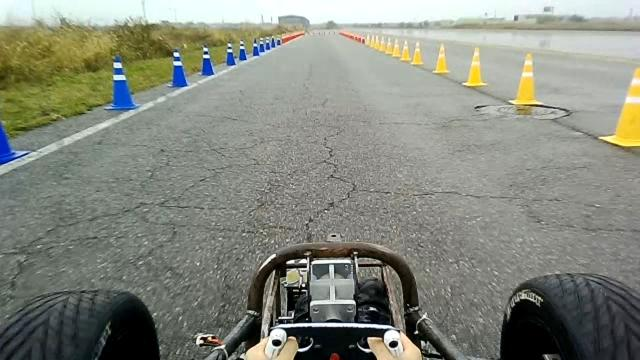blue cone: (103, 55, 141, 111), (0, 119, 31, 165), (166, 48, 190, 88), (199, 43, 215, 76), (225, 41, 236, 66), (238, 39, 247, 60), (252, 37, 260, 56), (264, 36, 272, 51), (258, 37, 265, 53), (270, 35, 276, 48)
yellow cone: (598, 67, 639, 147), (508, 52, 543, 106), (462, 46, 487, 87), (432, 42, 450, 74), (411, 41, 424, 65), (400, 40, 411, 62), (392, 38, 401, 58), (385, 38, 393, 55), (378, 36, 386, 52), (370, 35, 377, 49), (374, 35, 380, 50), (364, 33, 370, 46)
